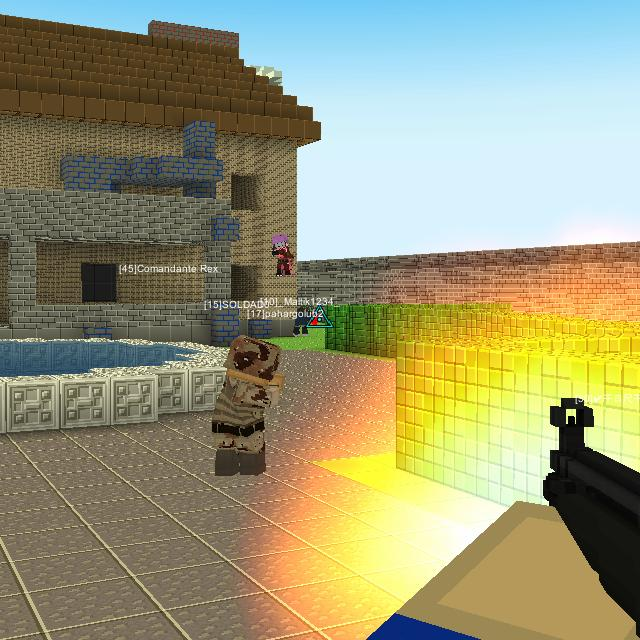enemy: (271, 233, 290, 276)
